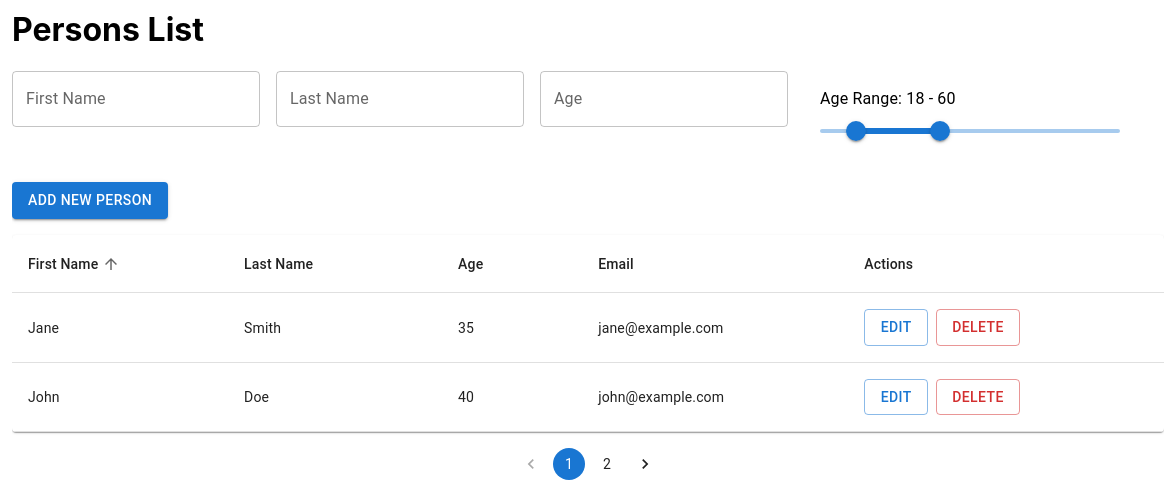
PersonsPage › deletes person when delete button is clicked
Check: the text "John" is shown, box [12, 362, 228, 432]
Click the button "Delete" in the row of "Doe". click: click(978, 397)
box: [936, 379, 1020, 415]
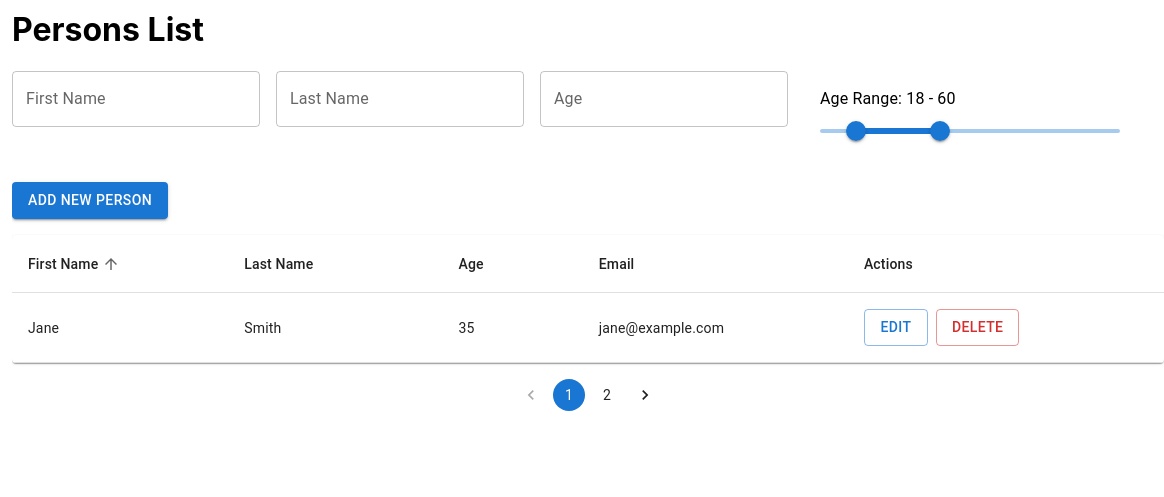
Check: the text "Jane" is shown, box [12, 293, 228, 362]
Check: the text "John" is gone
